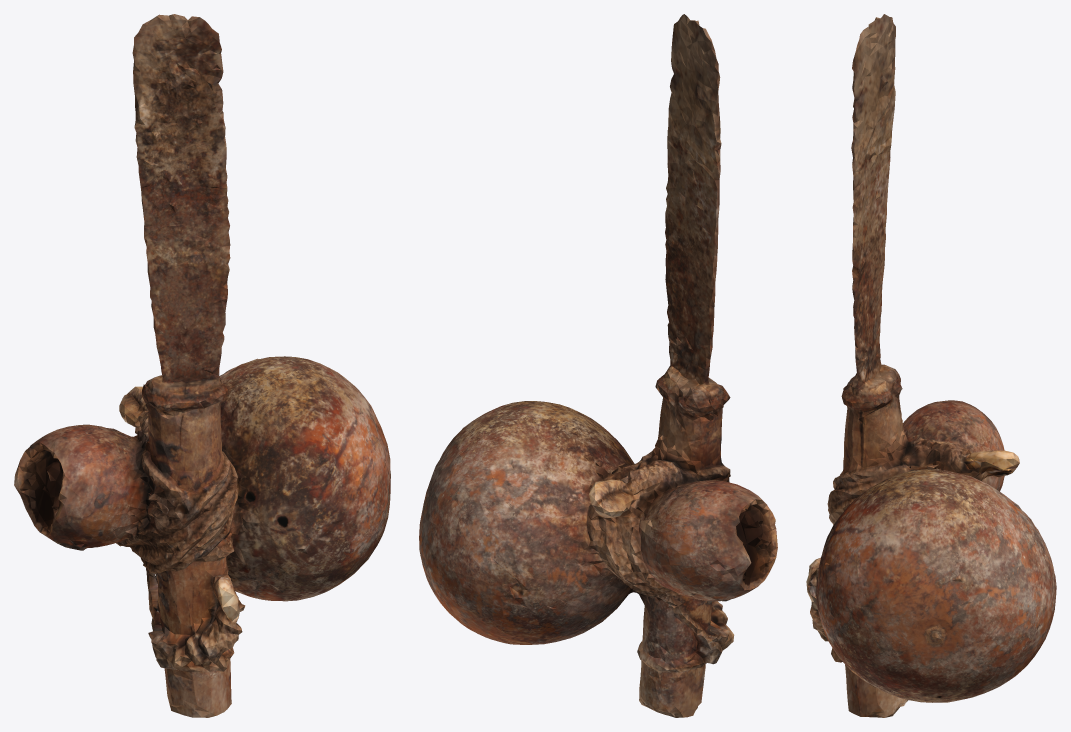
File: CalebasseCouteau.glb
The picture shows the model from 3 angles, left to right: view 1: azimuth 30°, elevation 25°; view 2: azimuth 150°, elevation 25°; view 3: azimuth 270°, elevation 25°; orthographic projection. The views are drawn at different scales.
Parts seen in each view (by area): view 1: CalebasseCouteau; view 2: CalebasseCouteau; view 3: CalebasseCouteau.
Boxes of the visible parts, bbox=[...] form: CalebasseCouteau: bbox=[14, 14, 390, 717]; CalebasseCouteau: bbox=[419, 14, 777, 717]; CalebasseCouteau: bbox=[806, 14, 1056, 717].
Size of the model in its own units: 0.1443 by 0.29 by 0.0966.
1 material, 1 textured.
